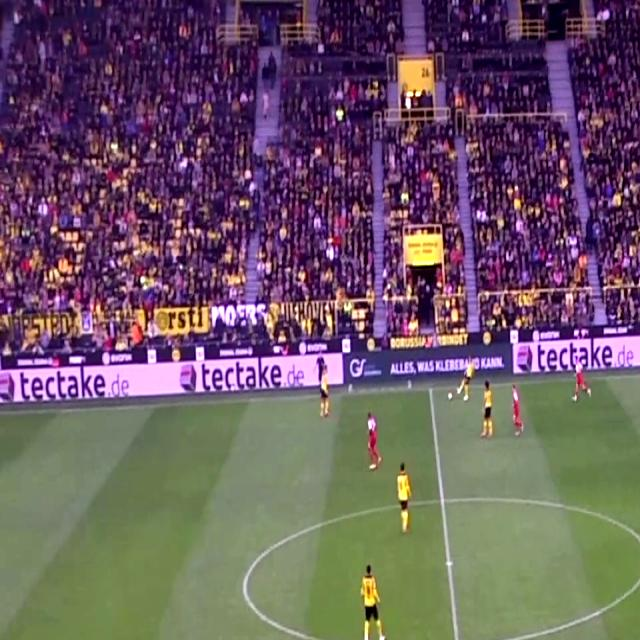ball: (444, 389, 456, 405)
soccer-player: (354, 557, 389, 640), (396, 458, 418, 544), (363, 404, 383, 476), (572, 337, 592, 409), (479, 378, 498, 444), (458, 349, 480, 405), (319, 356, 337, 424), (509, 381, 527, 443), (637, 466, 640, 546)
